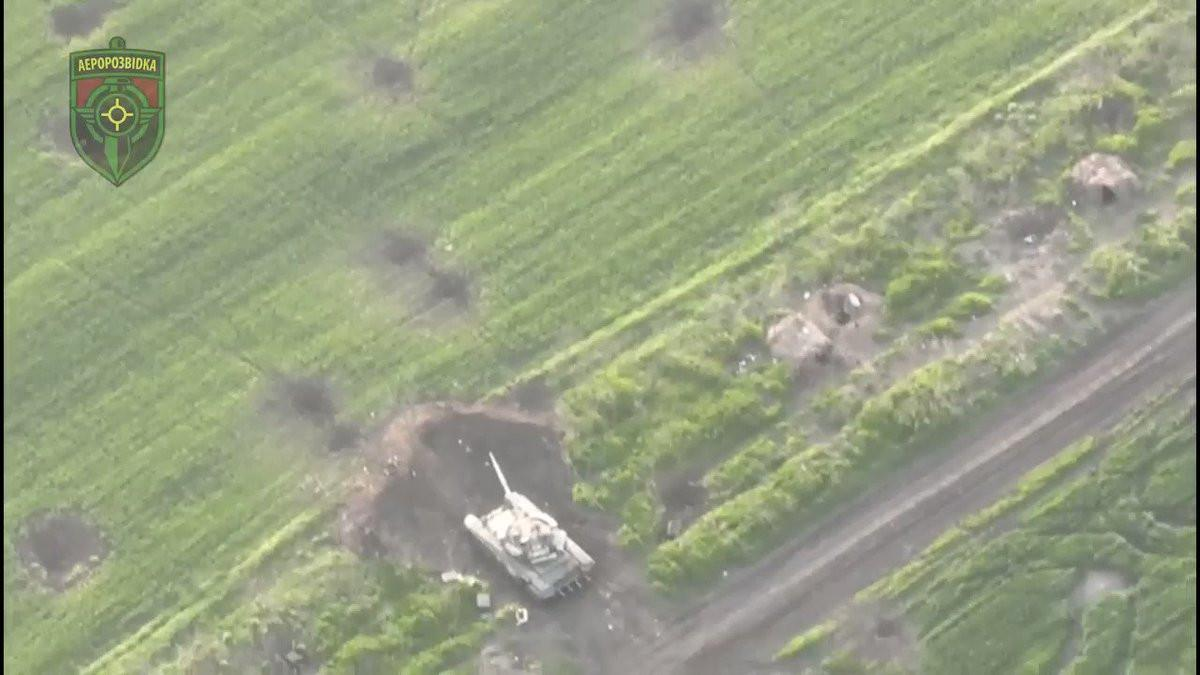tank: (464, 450, 596, 600)
